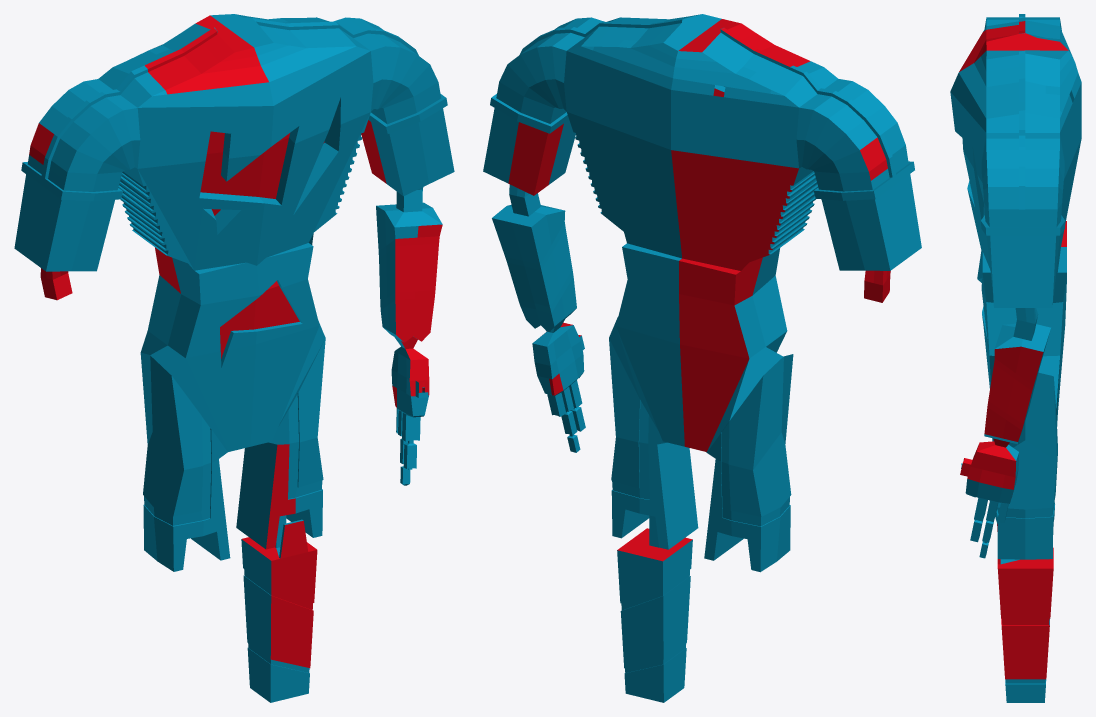
File: body2.fbx
The picture shows the model from 3 angles, left to right: view 1: azimuth 30°, elevation 25°; view 2: azimuth 150°, elevation 25°; view 3: azimuth 270°, elevation 25°; orthographic projection. The views are drawn at different scales.
Visible parts, largest first — view 1: cyborgMeshBroken1.001; view 2: cyborgMeshBroken1.001; view 3: cyborgMeshBroken1.001.
Part boxes in pixels (x1=…): cyborgMeshBroken1.001: x1=14, y1=14, x2=454, y2=702; cyborgMeshBroken1.001: x1=483, y1=14, x2=921, y2=702; cyborgMeshBroken1.001: x1=950, y1=14, x2=1081, y2=702.
Bounding box in the file's own units: 0.2796 × 0.4443 × 0.0838.
